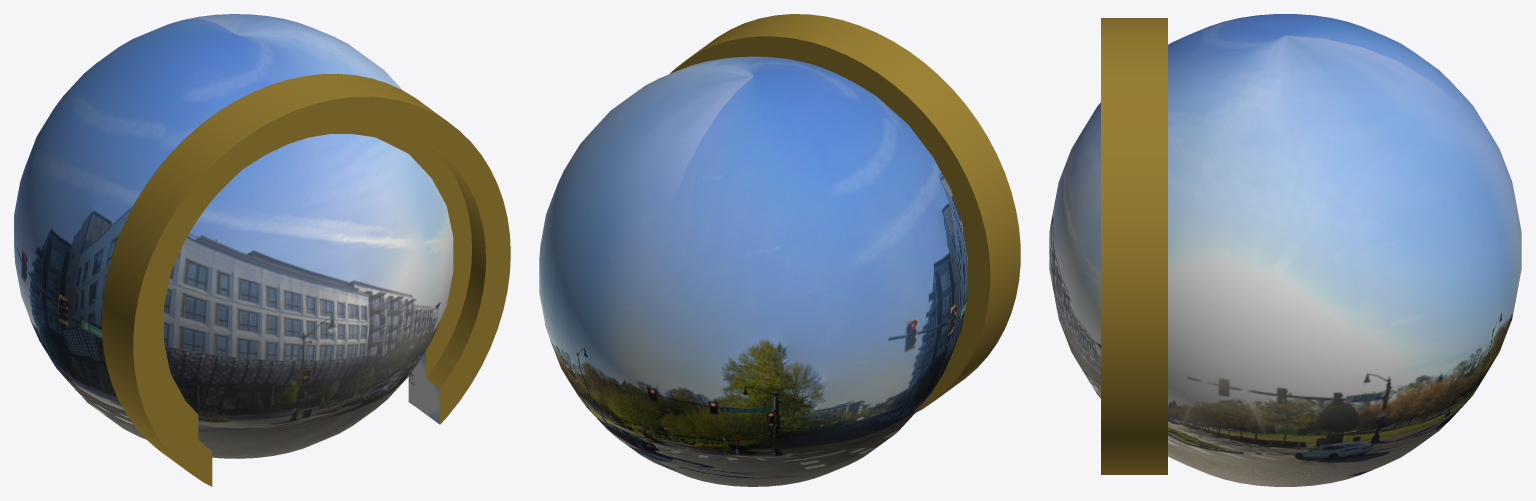
The model's file is enter_the_portal_3_1.glb.
The picture shows the model from 3 angles, left to right: view 1: azimuth 30°, elevation 25°; view 2: azimuth 150°, elevation 25°; view 3: azimuth 270°, elevation 25°; orthographic projection. The views are drawn at different scales.
Parts seen in each view (by area): view 1: Sphere005; view 2: Sphere005; view 3: Sphere005.
Boxes of the visible parts, bbox=[...] form: Sphere005: bbox=[14, 14, 510, 486]; Sphere005: bbox=[539, 14, 1020, 486]; Sphere005: bbox=[1049, 14, 1521, 486].
Bounding box in the file's own units: 3.9 × 3.92 × 3.91.
2 materials, 1 textured.
